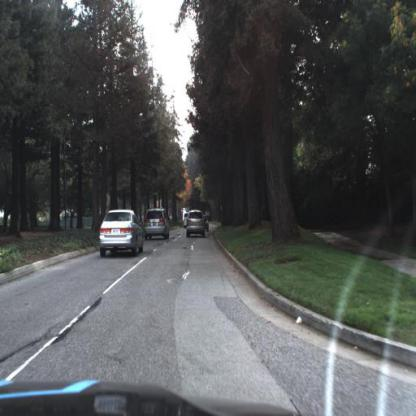car: (95, 210, 146, 259), (142, 205, 170, 243), (186, 206, 209, 238), (199, 209, 211, 233), (182, 210, 192, 232)
